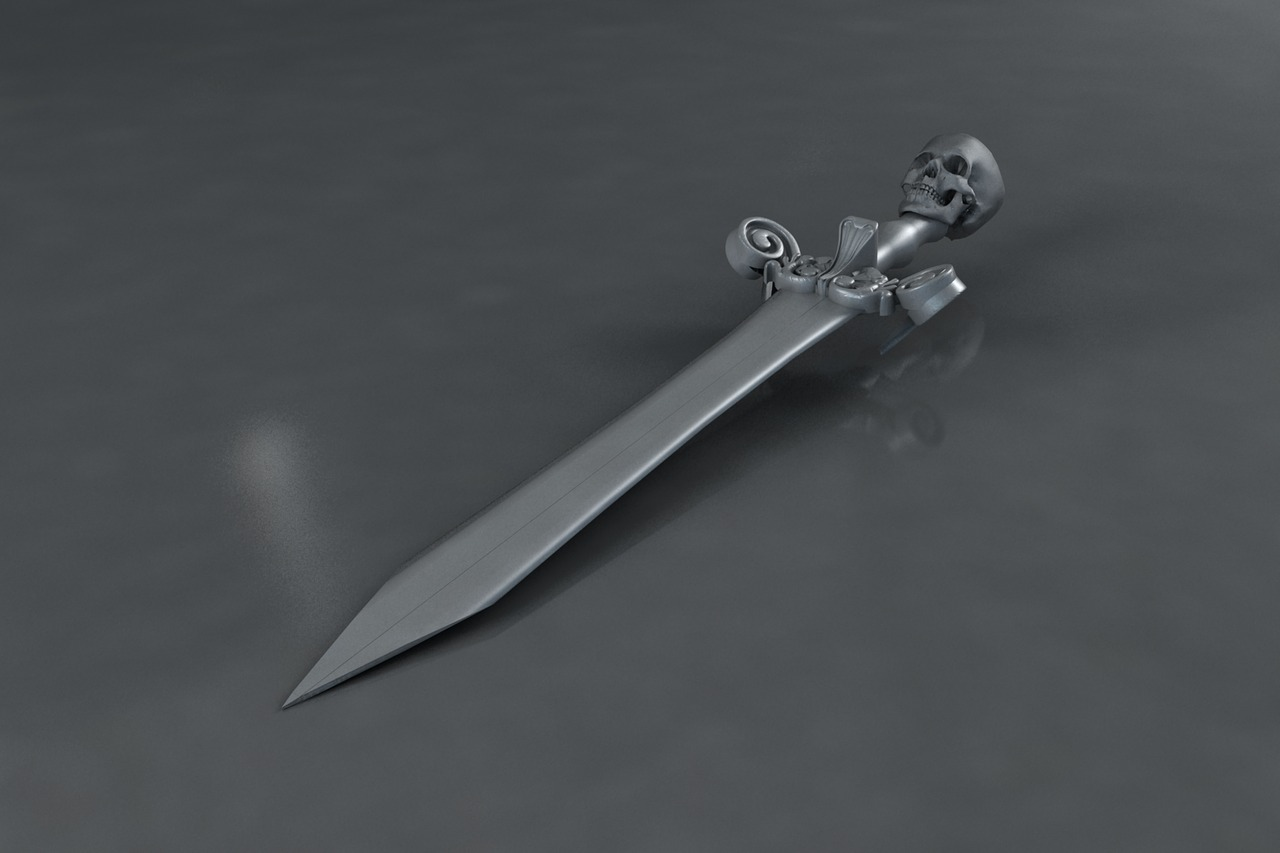knife: (265, 121, 1014, 713)
